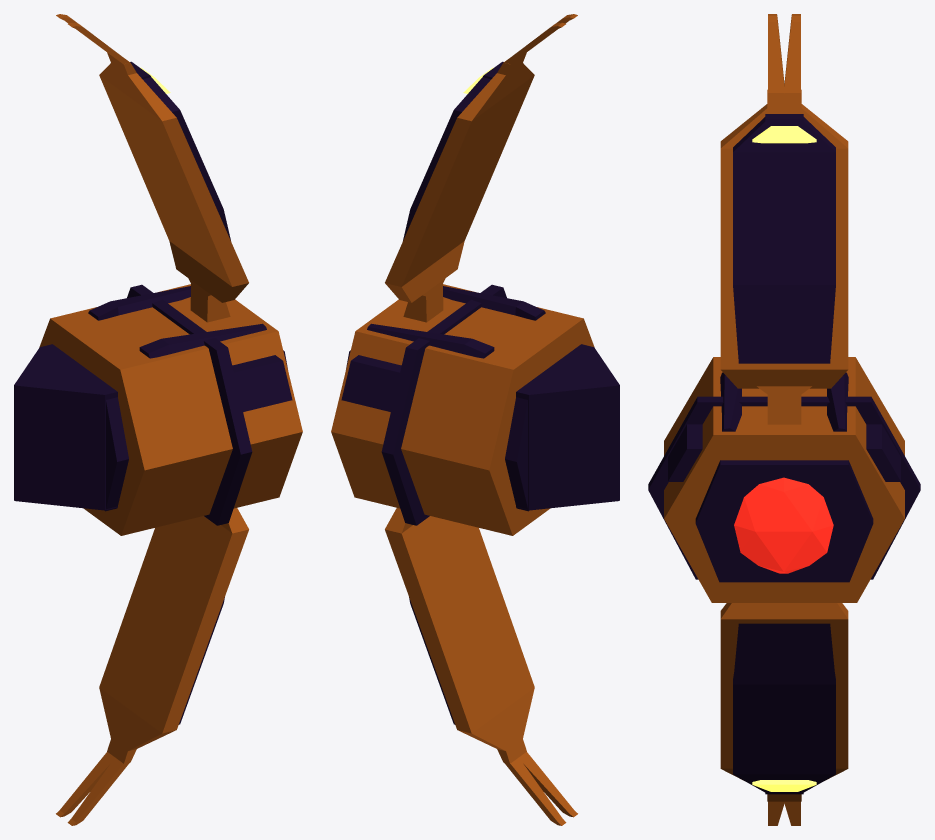
Rendered from Gegner1.fbx.
3 renders of one model, left to right at view 1: azimuth 30°, elevation 25°; view 2: azimuth 150°, elevation 25°; view 3: azimuth 270°, elevation 25°, orthographic.
Parts seen in each view (by area): view 1: Cube.000; view 2: Cube.000; view 3: Cube.000.
Part boxes in pixels (x1=…): Cube.000: x1=14, y1=14, x2=302, y2=825; Cube.000: x1=331, y1=14, x2=619, y2=825; Cube.000: x1=648, y1=14, x2=920, y2=825.
Size of the model in its own units: 318 by 965 by 294.
